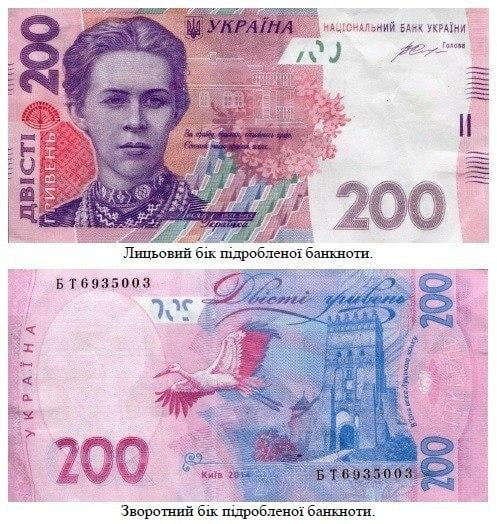bn_200: (9, 268, 488, 503), (9, 8, 489, 241)
